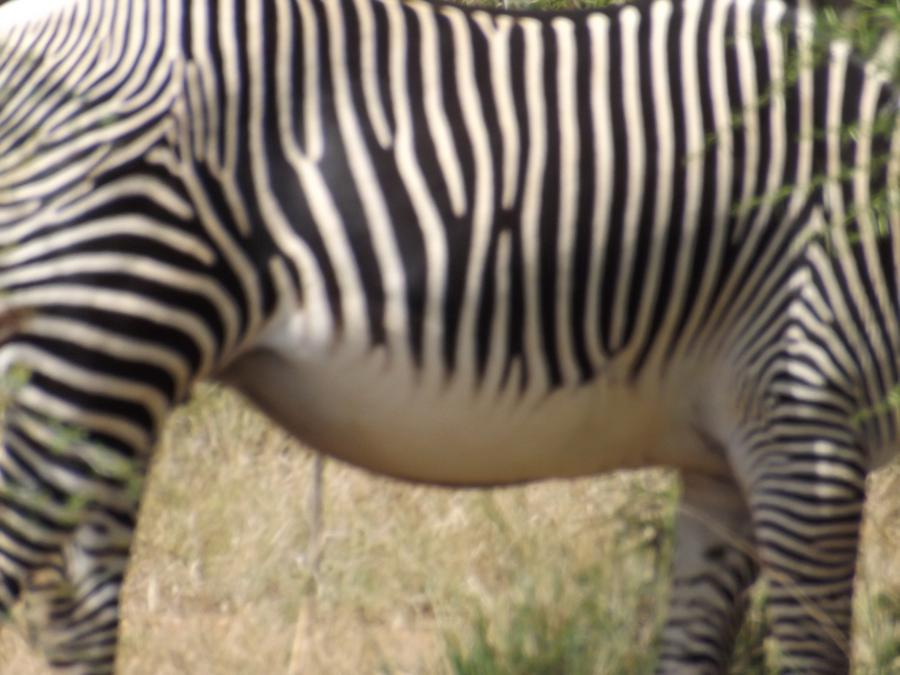zebra_grevys: (4, 0, 872, 472)
